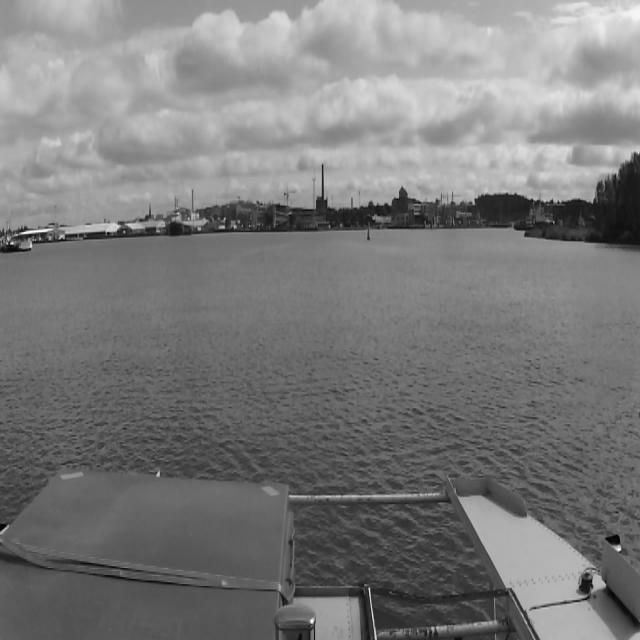buoy: (366, 221, 371, 241)
ship: (520, 196, 558, 231), (167, 194, 183, 239)
